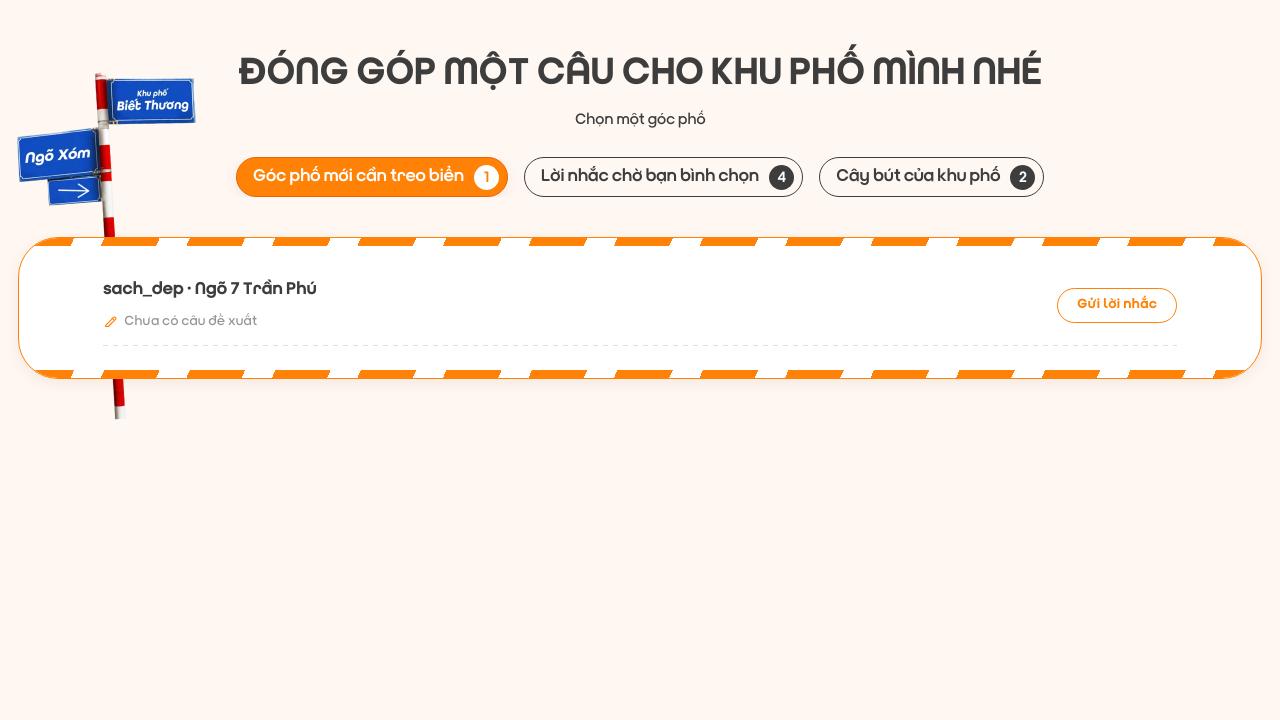
Test: IssueBoard · B4/Q7 — tab 3 'Cây bút của khu phố' › liệt kê NGƯỜI (A2), không phải góc phố
What coordinates should you click on to do the following:
click the text "Cây bút của khu phố"
I would click on:
 (918, 177)
Its box is [836, 163, 1000, 191].
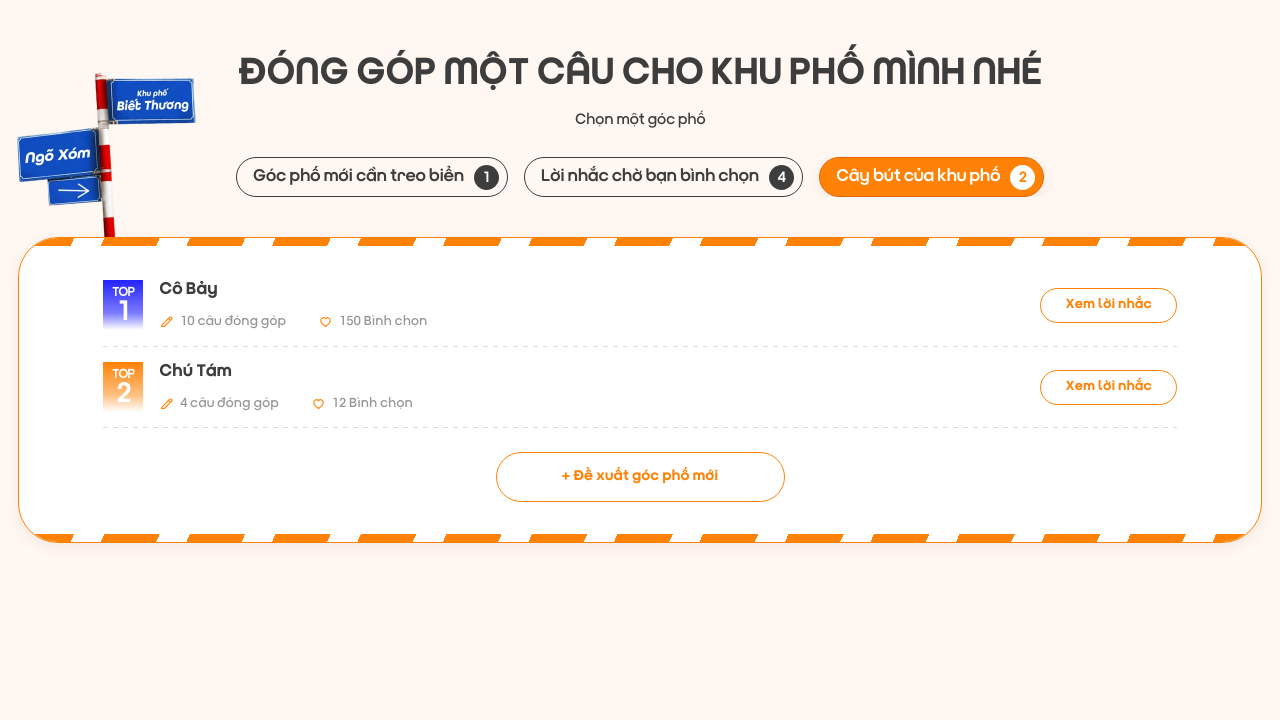
Check: the text "Cô Bảy" is shown, box [159, 280, 218, 299]
